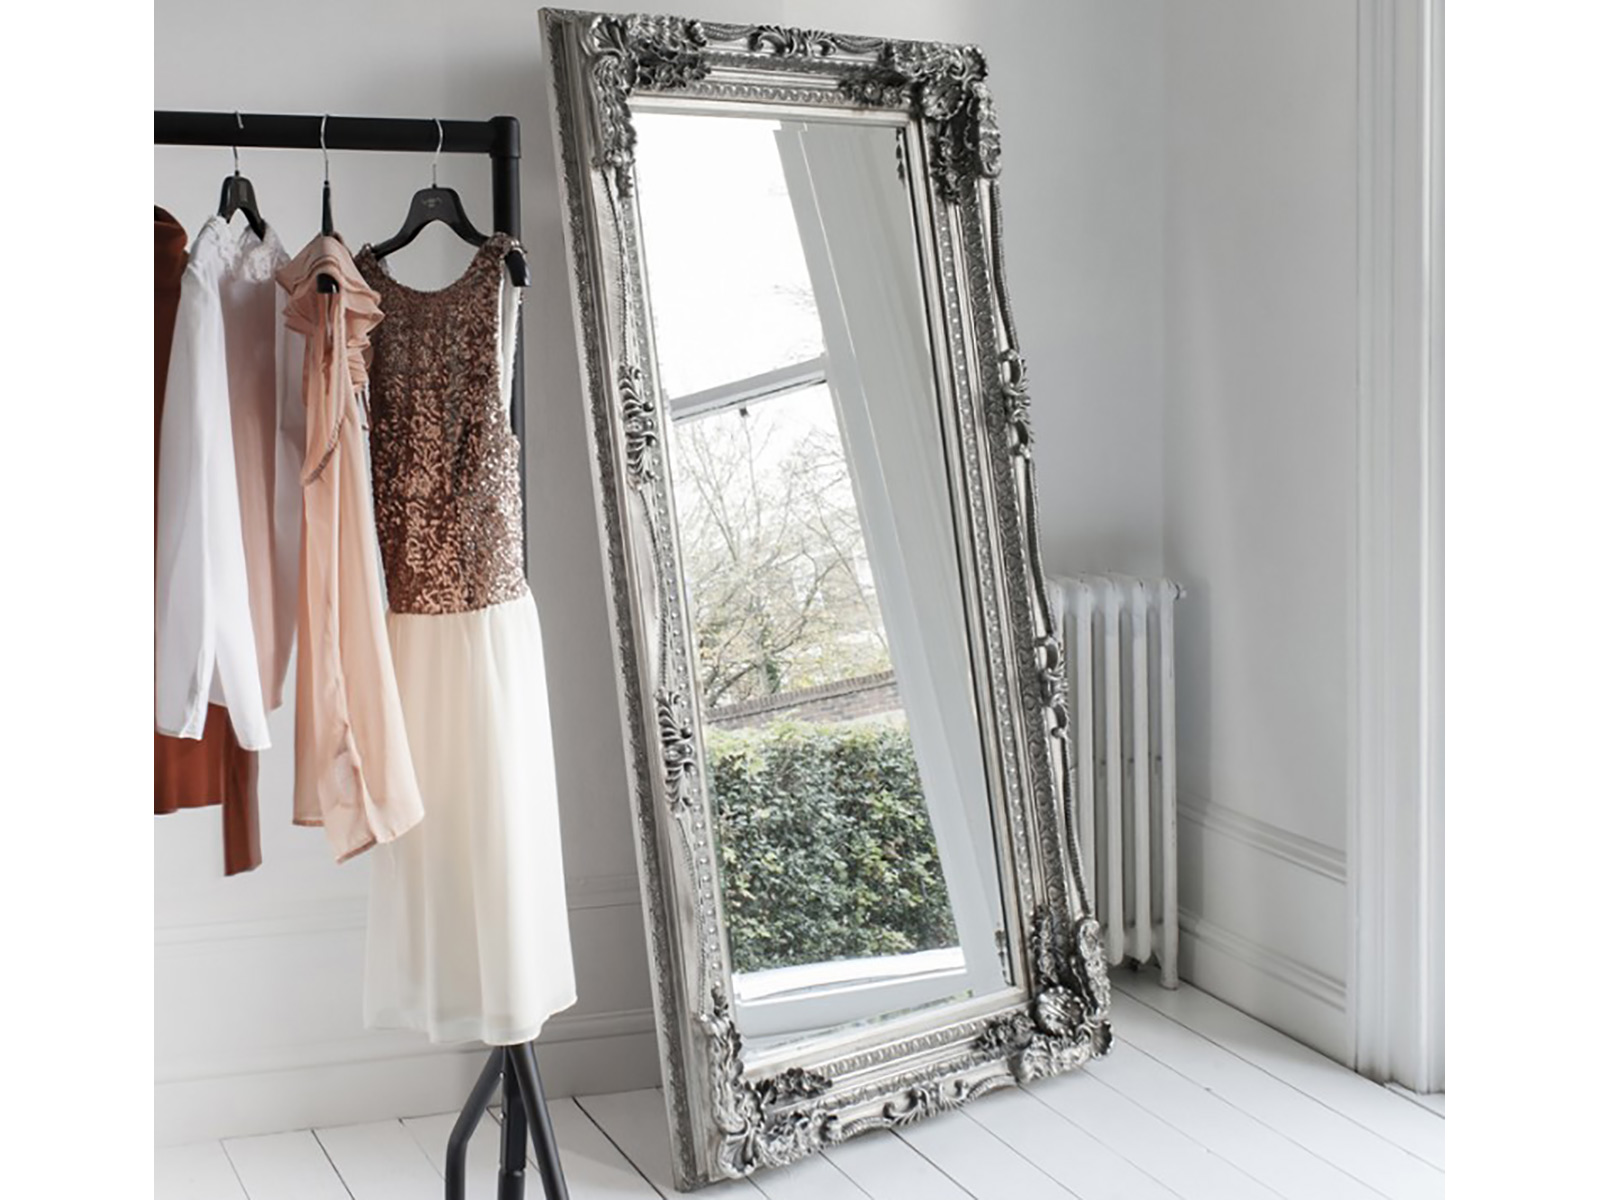Nonrec_Glass: (532, 1, 1174, 1147)
